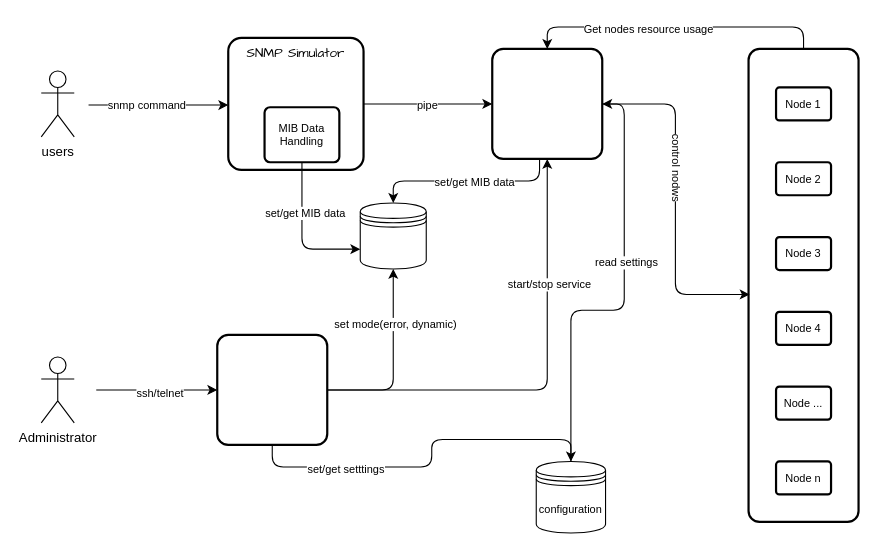
The diagram is 879 pixels wide and 552 high, and some of its shapes have lost their labels. The shapes that lost their labels are listed below. From the top down, each one's centre as x and y in pixels, then its label:
the point at 547,103: vPDU Service
the point at 392,235: mib data
the point at 272,389: Control Service
